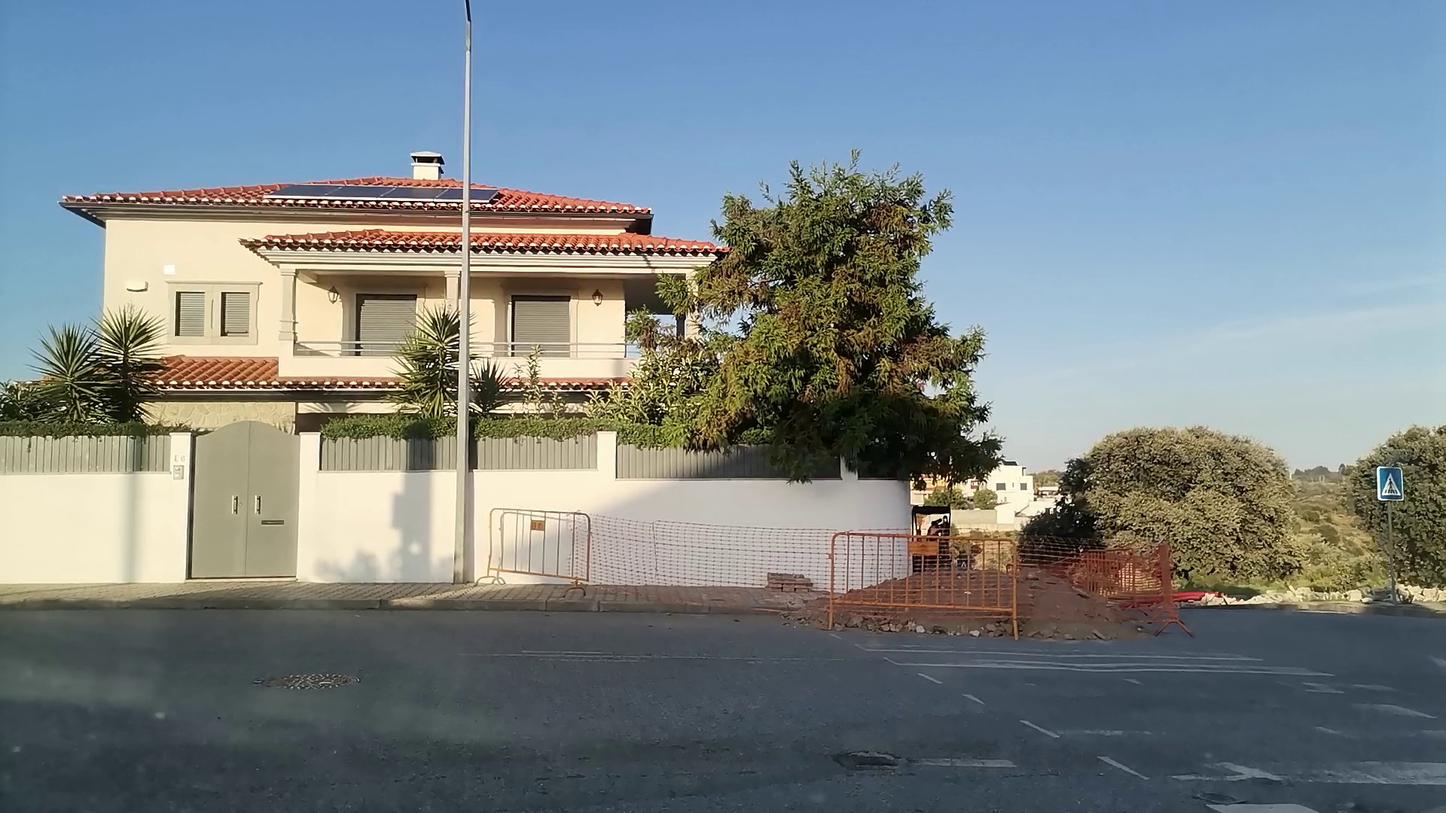Stairs: (835, 622, 1446, 813)
